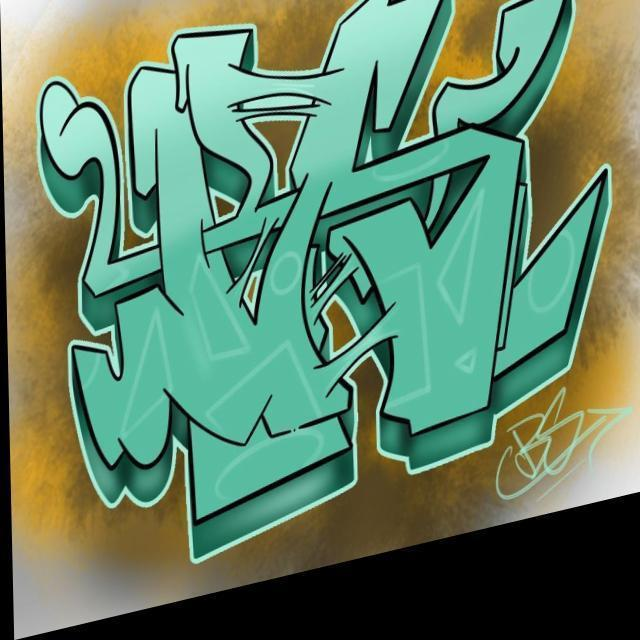nonspitting: (38, 0, 613, 560), (494, 389, 631, 502)
